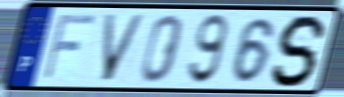0: (138, 13, 185, 86)
6: (232, 15, 279, 85)
9: (186, 12, 231, 88)
F: (39, 12, 100, 83)
S: (269, 13, 330, 89)
V: (100, 12, 149, 84)
